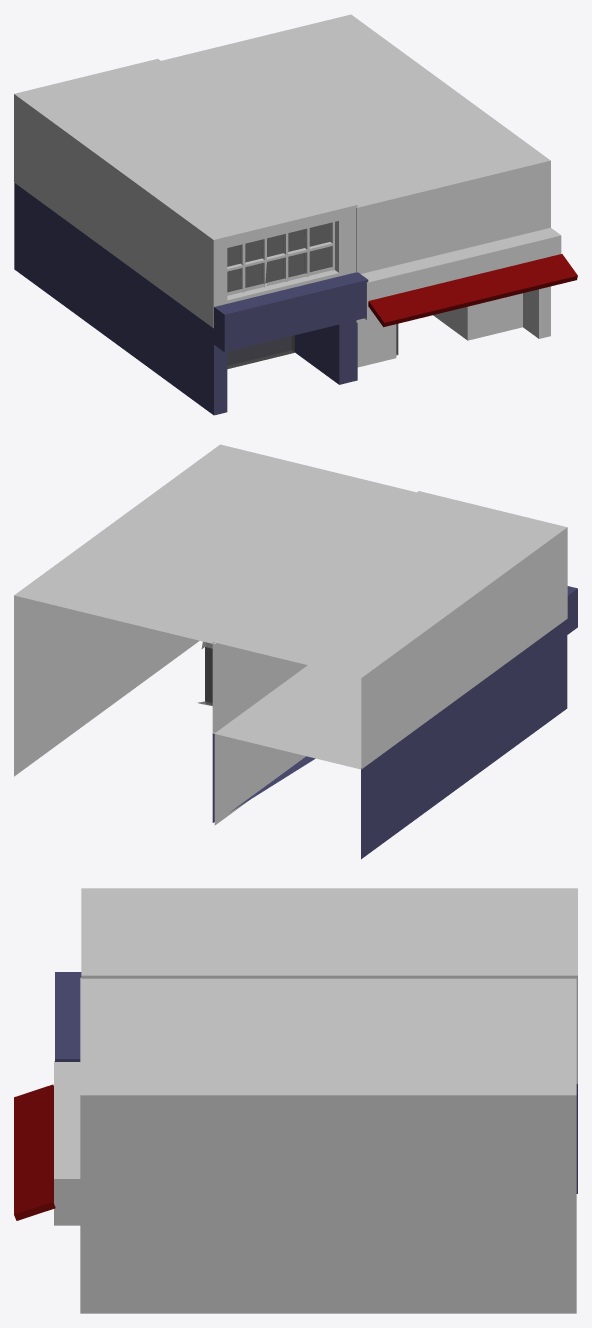
File: edificio 3.fbx
3 views of the same model, one above another, from view 1: azimuth 30°, elevation 25°; view 2: azimuth 150°, elevation 25°; view 3: azimuth 270°, elevation 25° (orthographic). The views are drawn at different scales.
Parts seen in each view (by area): view 1: Base, Parte-de-Arriba, Parte-de-Abajo, Cortina, Ventana, Barrotes, Entrada2; view 2: Base, Parte-de-Arriba, Parte-de-Abajo; view 3: Base, Parte-de-Arriba, Cortina, Parte-de-Abajo.
Boxes of the visible parts, bbox=[...] form: Base: bbox=[161, 14, 561, 367]; Parte-de-Arriba: bbox=[14, 59, 357, 328]; Parte-de-Abajo: bbox=[14, 183, 368, 415]; Cortina: bbox=[368, 254, 577, 327]; Ventana: bbox=[227, 222, 332, 292]; Barrotes: bbox=[227, 222, 334, 295]; Entrada2: bbox=[227, 335, 294, 369]; Base: bbox=[14, 444, 416, 825]; Parte-de-Arriba: bbox=[212, 491, 567, 769]; Parte-de-Abajo: bbox=[212, 586, 577, 859]; Base: bbox=[54, 977, 576, 1313]; Parte-de-Arriba: bbox=[81, 888, 577, 1083]; Cortina: bbox=[14, 1084, 55, 1220]; Parte-de-Abajo: bbox=[55, 972, 577, 1193].
Bounding box in the file's own units: 477 × 240 × 555.
